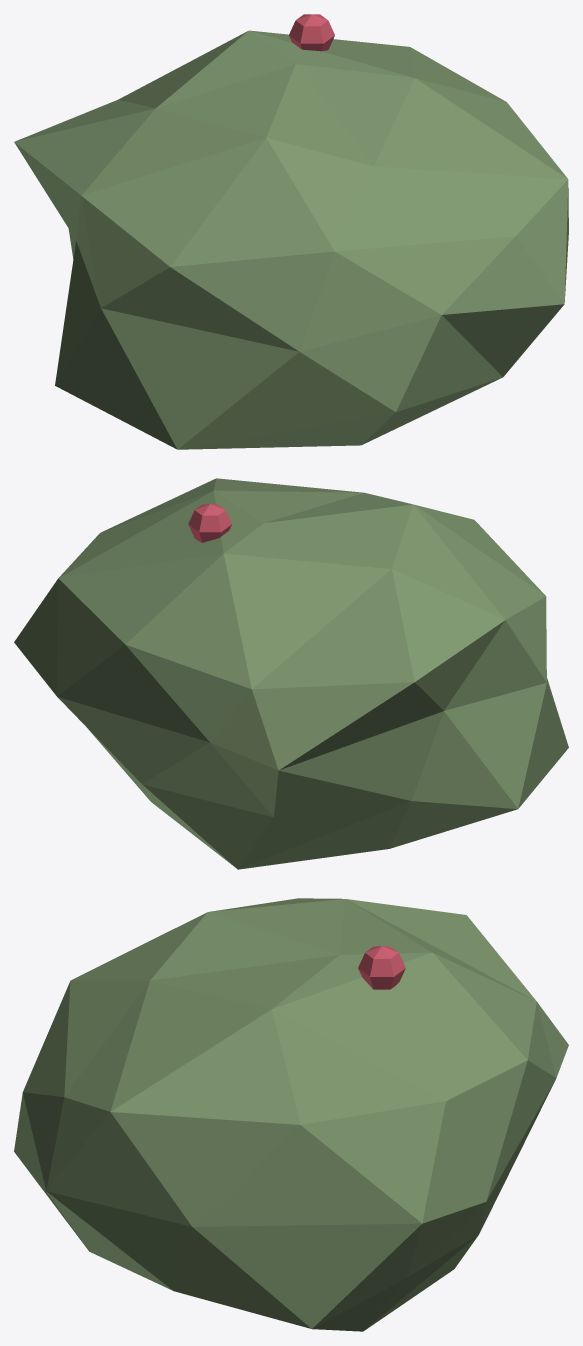
File: bush_berry_01.glb
The picture shows the model from 3 angles, top to bottom: view 1: azimuth 30°, elevation 25°; view 2: azimuth 150°, elevation 25°; view 3: azimuth 270°, elevation 25°; orthographic projection. The views are drawn at different scales.
Parts seen in each view (by area): view 1: bush_berry_01; view 2: bush_berry_01; view 3: bush_berry_01.
Part boxes in pixels (bbox=[...]): bush_berry_01: bbox=[14, 14, 568, 449]; bush_berry_01: bbox=[14, 478, 568, 869]; bush_berry_01: bbox=[14, 898, 568, 1331].
Bounding box in the file's own units: 0.833 × 0.5772 × 0.8104.
